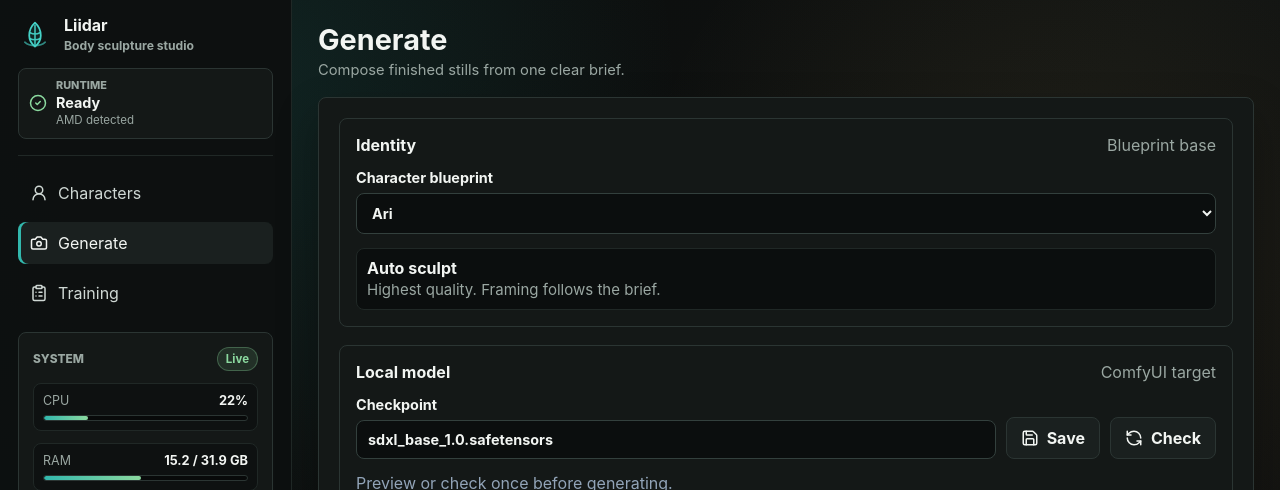
App › enhances, previews, and queues generation from one brief
Click the tab "Generate". click: (146, 242)
box: [18, 222, 273, 264]
(page scrolled)
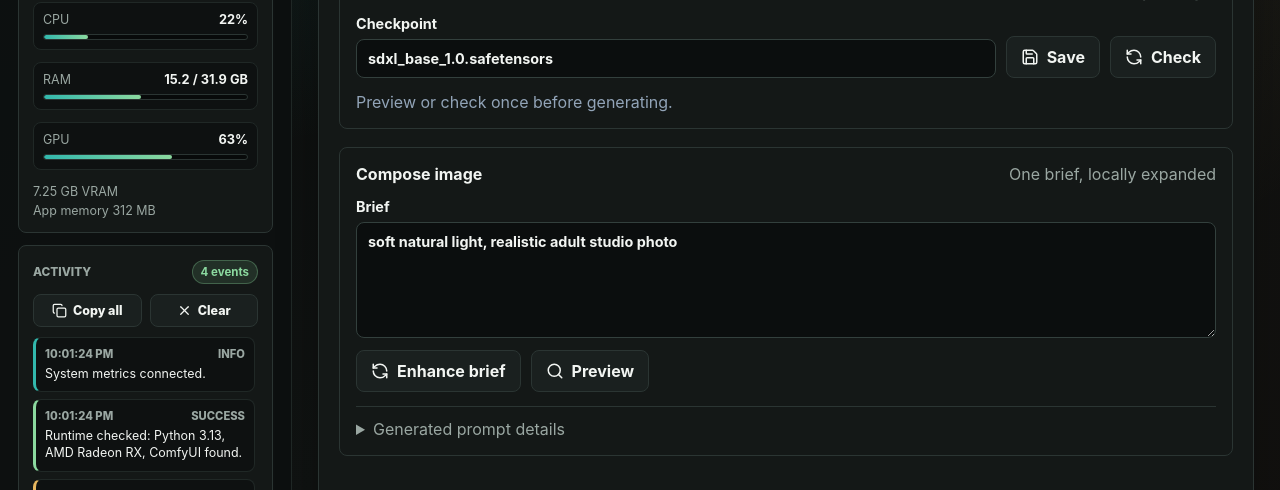
Click the button "Enhance brief". click: (438, 371)
box: [356, 350, 520, 392]
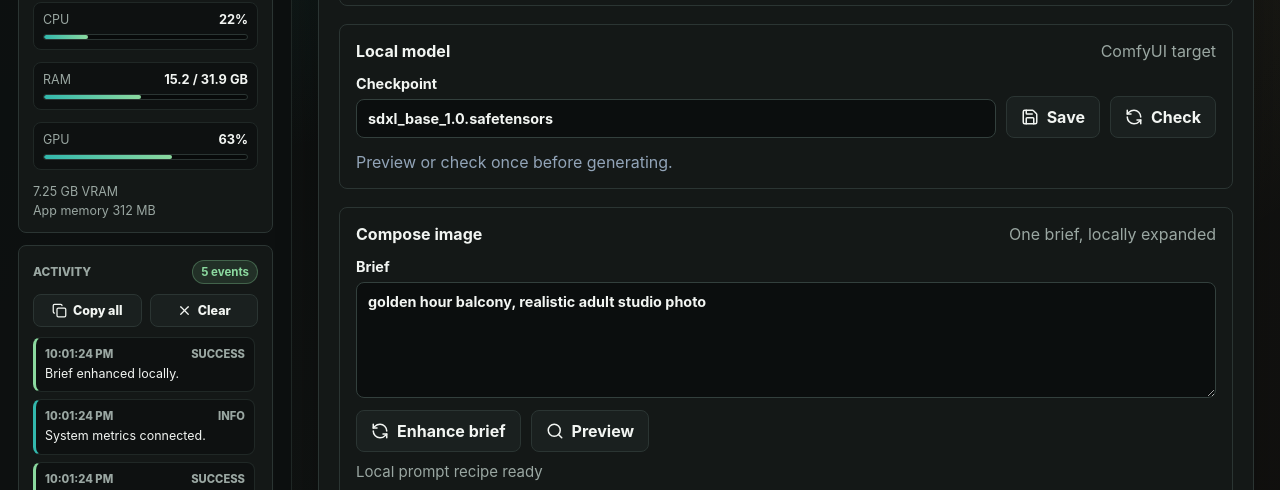
Expected: the text "Brief enhanced locally." is shown, [45, 366, 179, 380]
Expected: the text box showing "golden hour balcony, realistic adult studio photo" is shown, [356, 282, 1216, 398]
Click the button "Preview". click: (590, 431)
box: [530, 410, 649, 452]
(page scrolled)
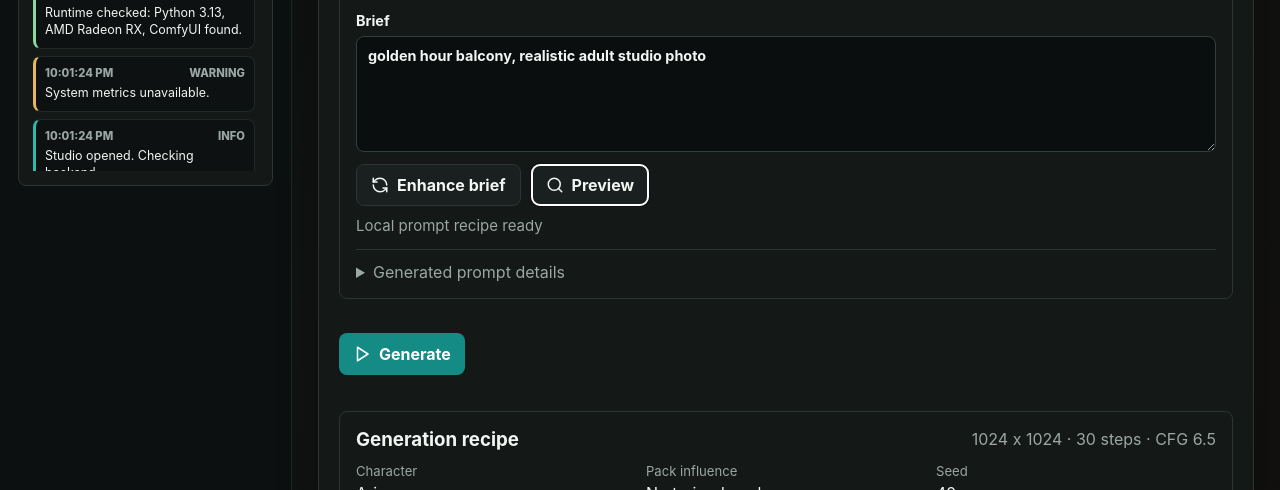
Expected: the heading "Generation recipe" is shown, [356, 428, 519, 451]
Click the button "Generate". click: (402, 354)
box: [339, 333, 465, 375]
(page scrolled)
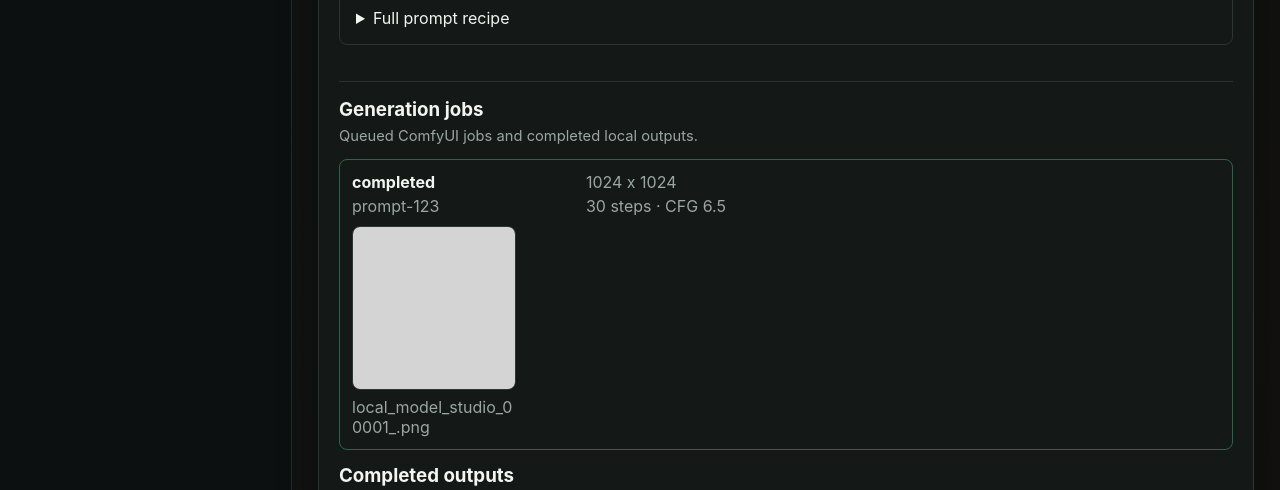
Expected: the text "local_model_studio_00001_.png" is shown, [352, 397, 516, 437]
